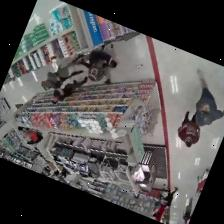person: (42, 55, 88, 89), (196, 69, 223, 126), (88, 45, 116, 81), (52, 76, 88, 103), (178, 111, 200, 146), (165, 187, 178, 208), (183, 197, 193, 223)
